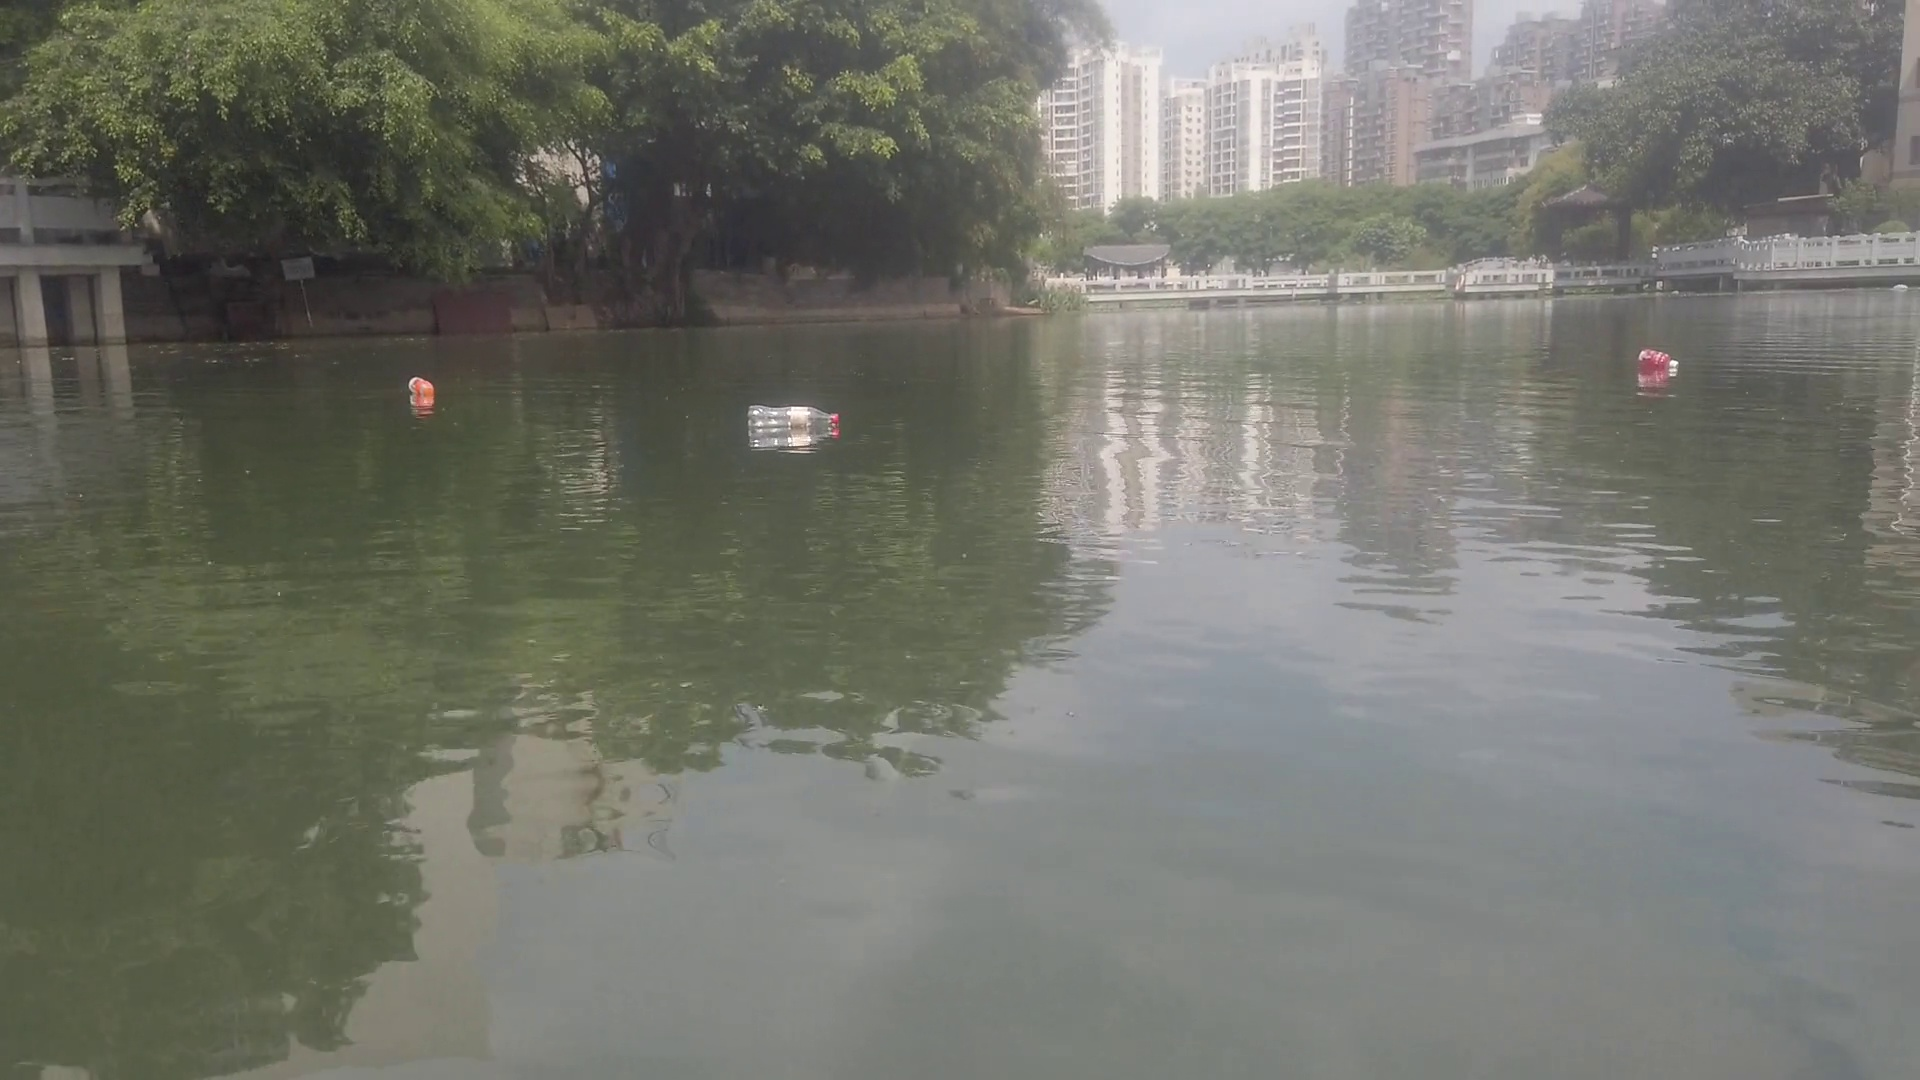bottle: (746, 404, 843, 429), (1636, 345, 1676, 365), (409, 375, 435, 397)
plastic: (1894, 284, 1905, 294)
